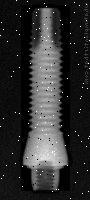Neodent: (21, 5, 70, 191)
